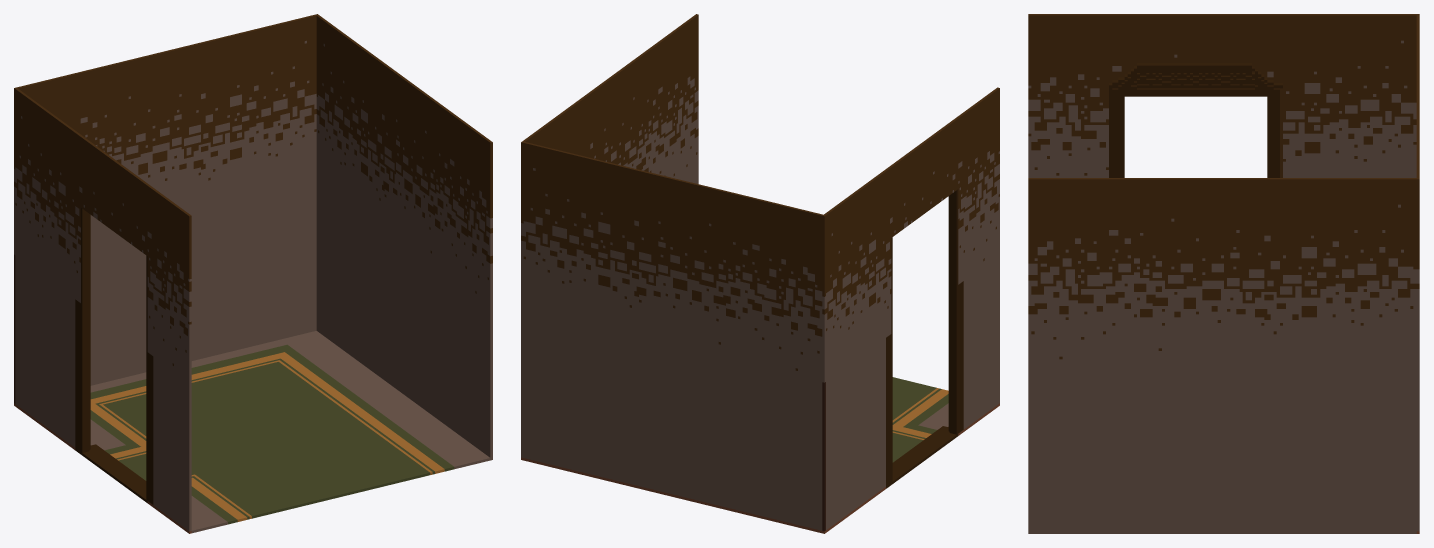
File: f1wallbot.obj
The picture shows the model from 3 angles, left to right: view 1: azimuth 30°, elevation 25°; view 2: azimuth 150°, elevation 25°; view 3: azimuth 270°, elevation 25°; orthographic projection. The views are drawn at different scales.
Bounding box in the file's own units: 126 × 126 × 126.
Materials: 1 (1 with a texture image).
